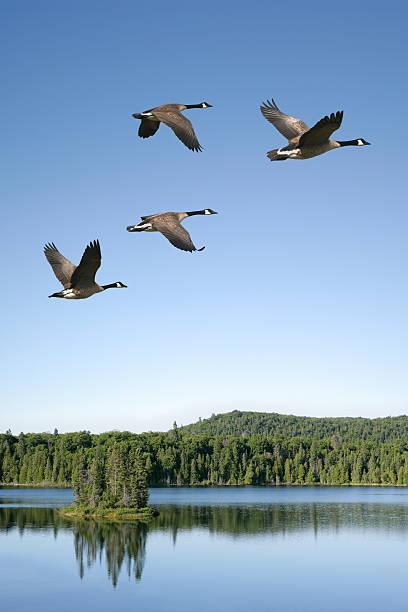Canadian-Goose: (256, 100, 372, 166), (131, 92, 215, 158), (42, 239, 127, 303), (124, 204, 218, 255)
